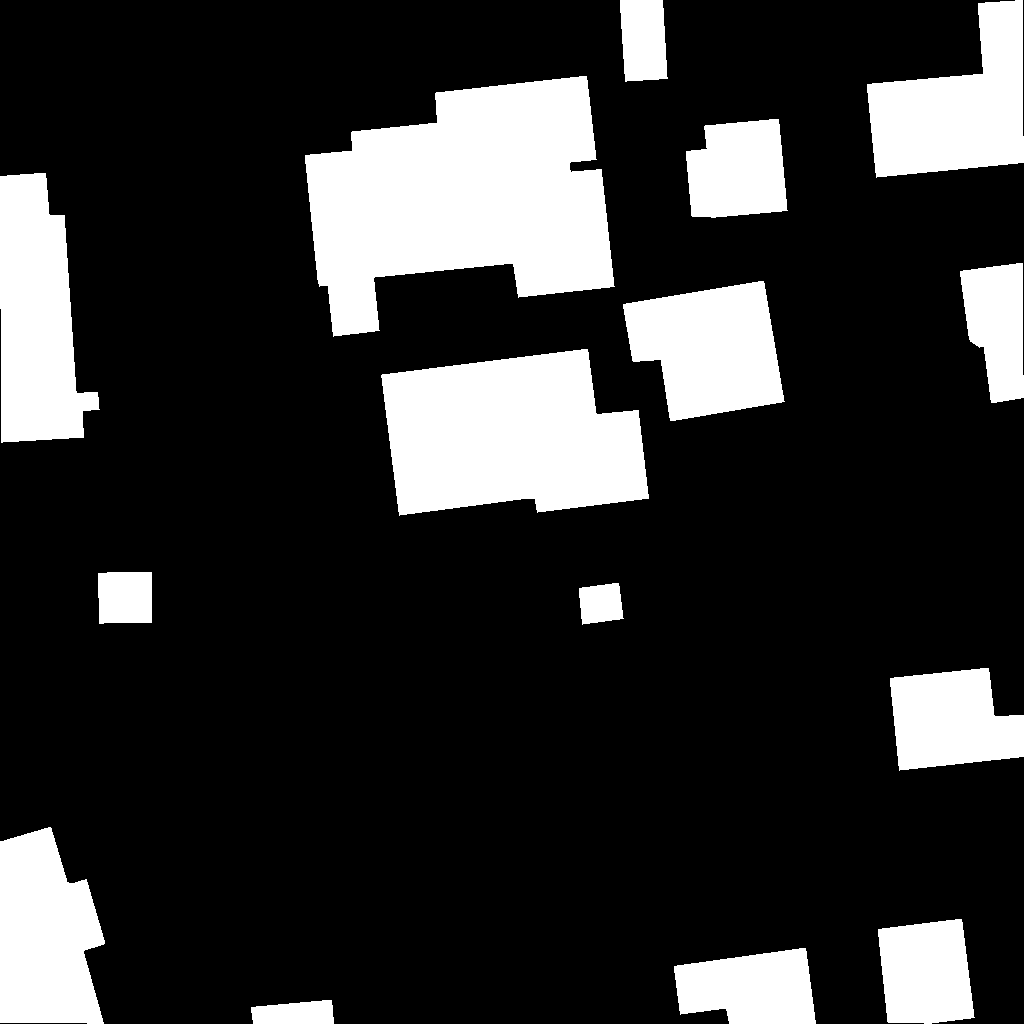building: (305, 76, 615, 337), (381, 349, 650, 516), (867, 0, 1024, 178), (0, 173, 100, 443), (623, 281, 785, 422), (0, 827, 106, 1024), (890, 668, 1024, 771), (674, 948, 817, 1024), (878, 919, 975, 1024), (686, 119, 788, 218), (960, 263, 1024, 404), (620, 0, 668, 82), (98, 572, 153, 624), (251, 1000, 335, 1024), (579, 583, 624, 625)
